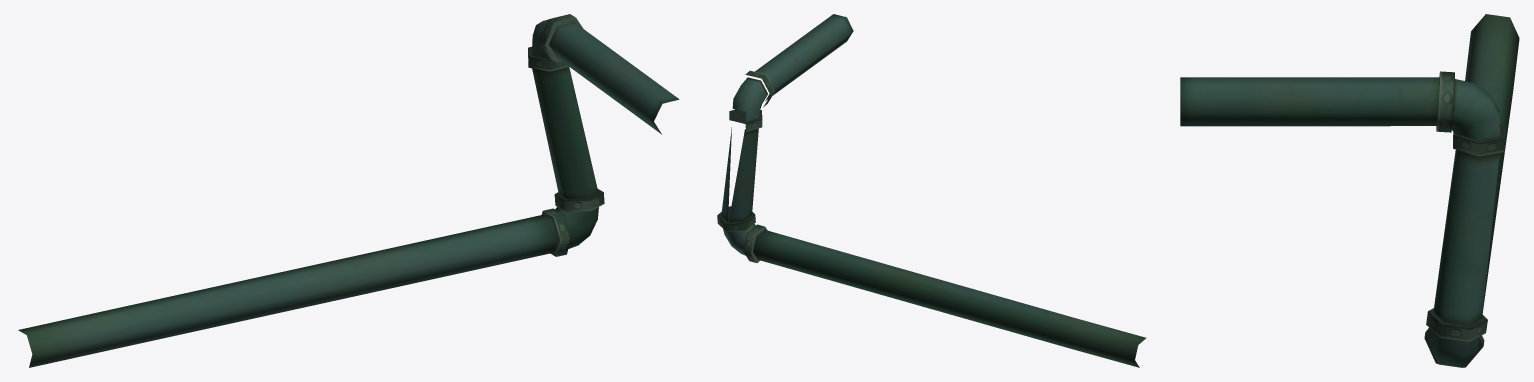
The model's file is pipe_L_horiz_up.glb.
3 views of the same model, side by side, from view 1: azimuth 30°, elevation 25°; view 2: azimuth 150°, elevation 25°; view 3: azimuth 270°, elevation 25° (orthographic). The views are drawn at different scales.
Visible parts, largest first — view 1: pipeworks.pipe_L_horiz_up-Mesh[0]; view 2: pipeworks.pipe_L_horiz_up-Mesh[0]; view 3: pipeworks.pipe_L_horiz_up-Mesh[0].
Part boxes in pixels (x1=…): pipeworks.pipe_L_horiz_up-Mesh[0]: x1=18, y1=14, x2=679, y2=367; pipeworks.pipe_L_horiz_up-Mesh[0]: x1=717, y1=14, x2=1146, y2=367; pipeworks.pipe_L_horiz_up-Mesh[0]: x1=1180, y1=14, x2=1519, y2=367.
Bounding box in the file's own units: 57.65 × 23.18 × 24.61.
Materials: 1 (1 with a texture image).
